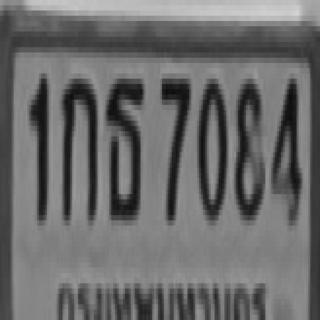A01: (60, 74, 96, 220)
A24: (106, 73, 142, 215)
N00: (195, 73, 224, 215)
N01: (27, 71, 47, 218)
N03: (233, 73, 262, 215)
N04: (269, 74, 299, 220)
N07: (159, 74, 188, 220)
